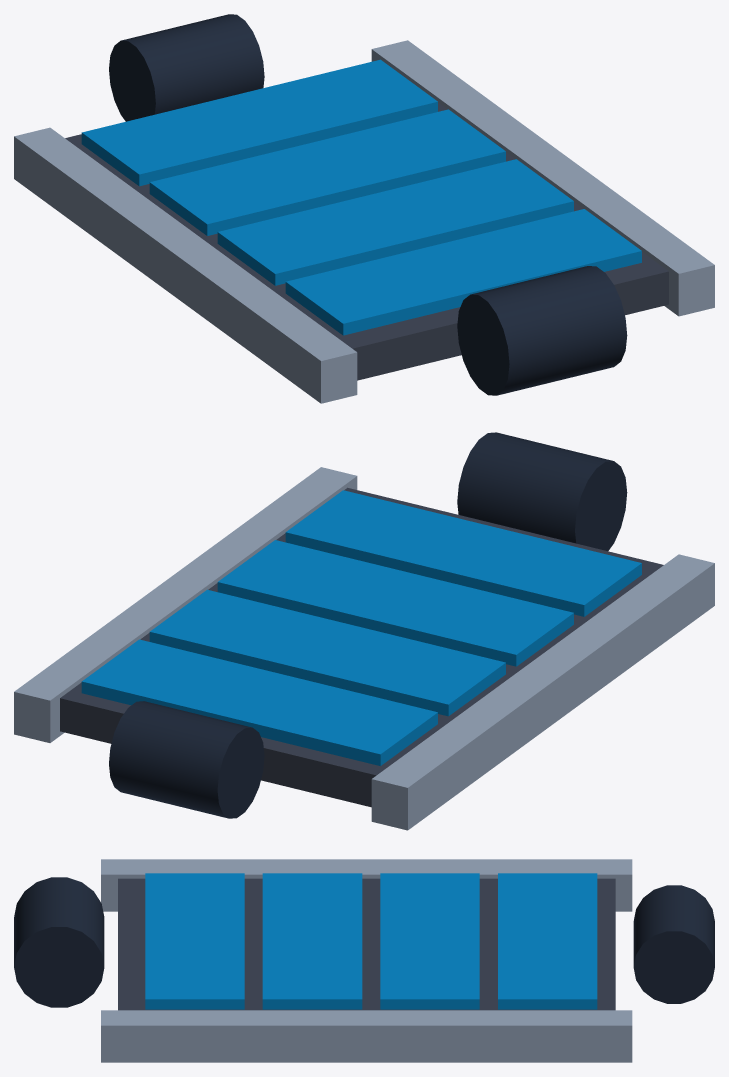
File: ev_skateboard_chassis_01.glb
3 views of the same model, one above another, from view 1: azimuth 30°, elevation 25°; view 2: azimuth 150°, elevation 25°; view 3: azimuth 270°, elevation 25° (orthographic). The views are drawn at different scales.
Visible parts, largest first — view 1: Side_Crash_Extruded_Sill_LH, Battery_Module_800V_Stack_3, Battery_Module_800V_Stack_2, Battery_Module_800V_Stack_1, Battery_Module_800V_Stack_4, Rear_Axle_Electric_Drive_Unit_450kW, Side_Crash_Extruded_Sill_RH, Front_Axle_Electric_Drive_Unit_300kW, Battery_Enclosure_Tub; view 2: Side_Crash_Extruded_Sill_LH, Battery_Module_800V_Stack_4, Battery_Module_800V_Stack_3, Battery_Module_800V_Stack_2, Battery_Module_800V_Stack_1, Rear_Axle_Electric_Drive_Unit_450kW, Side_Crash_Extruded_Sill_RH, Front_Axle_Electric_Drive_Unit_300kW, Battery_Enclosure_Tub; view 3: Side_Crash_Extruded_Sill_RH, Battery_Enclosure_Tub, Battery_Module_800V_Stack_3, Battery_Module_800V_Stack_1, Battery_Module_800V_Stack_2, Battery_Module_800V_Stack_4, Rear_Axle_Electric_Drive_Unit_450kW, Side_Crash_Extruded_Sill_LH, Front_Axle_Electric_Drive_Unit_300kW.
Boxes of the visible parts, x1=… form: Side_Crash_Extruded_Sill_LH: x1=14, y1=127, x2=357, y2=403; Battery_Module_800V_Stack_3: x1=217, y1=159, x2=573, y2=285; Battery_Module_800V_Stack_2: x1=149, y1=109, x2=505, y2=235; Battery_Module_800V_Stack_1: x1=81, y1=59, x2=437, y2=186; Battery_Module_800V_Stack_4: x1=285, y1=209, x2=641, y2=335; Rear_Axle_Electric_Drive_Unit_450kW: x1=457, y1=266, x2=627, y2=395; Side_Crash_Extruded_Sill_RH: x1=371, y1=40, x2=714, y2=316; Front_Axle_Electric_Drive_Unit_300kW: x1=109, y1=14, x2=264, y2=121; Battery_Enclosure_Tub: x1=65, y1=102, x2=668, y2=380; Side_Crash_Extruded_Sill_LH: x1=371, y1=554, x2=714, y2=830; Battery_Module_800V_Stack_4: x1=285, y1=490, x2=641, y2=616; Battery_Module_800V_Stack_3: x1=217, y1=540, x2=573, y2=666; Battery_Module_800V_Stack_2: x1=149, y1=589, x2=505, y2=716; Battery_Module_800V_Stack_1: x1=81, y1=639, x2=437, y2=765; Rear_Axle_Electric_Drive_Unit_450kW: x1=457, y1=432, x2=627, y2=551; Side_Crash_Extruded_Sill_RH: x1=14, y1=467, x2=357, y2=742; Front_Axle_Electric_Drive_Unit_300kW: x1=109, y1=701, x2=264, y2=818; Battery_Enclosure_Tub: x1=60, y1=487, x2=663, y2=807; Side_Crash_Extruded_Sill_RH: x1=101, y1=1010, x2=632, y2=1062; Battery_Enclosure_Tub: x1=118, y1=878, x2=615, y2=1010; Battery_Module_800V_Stack_3: x1=262, y1=873, x2=362, y2=1009; Battery_Module_800V_Stack_1: x1=498, y1=873, x2=597, y2=1009; Battery_Module_800V_Stack_2: x1=380, y1=873, x2=479, y2=1009; Battery_Module_800V_Stack_4: x1=145, y1=873, x2=244, y2=1009; Rear_Axle_Electric_Drive_Unit_450kW: x1=14, y1=877, x2=104, y2=1007; Side_Crash_Extruded_Sill_LH: x1=101, y1=859, x2=632, y2=911; Front_Axle_Electric_Drive_Unit_300kW: x1=633, y1=885, x2=714, y2=1003.
Size of the model in its own units: 1.74 by 0.3939 by 3.1.
